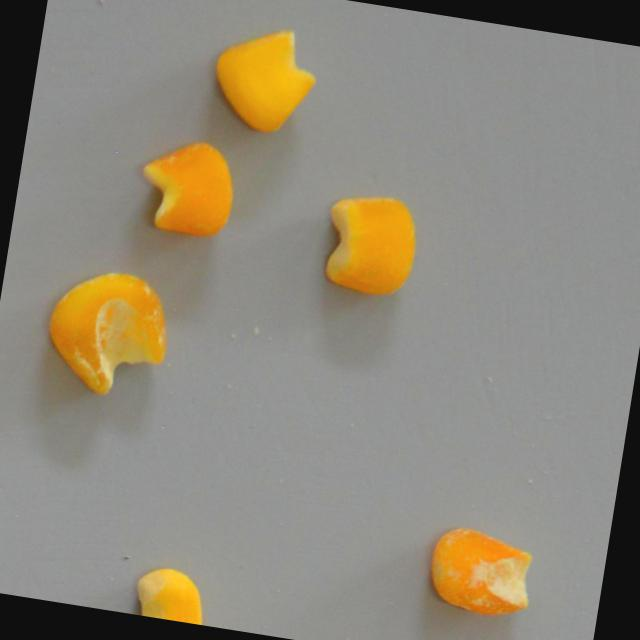dañado: (33, 260, 182, 409), (418, 519, 545, 627)
no_canjicado: (202, 19, 328, 144)
pelicula: (309, 187, 427, 306), (127, 130, 243, 247), (128, 562, 211, 625)
